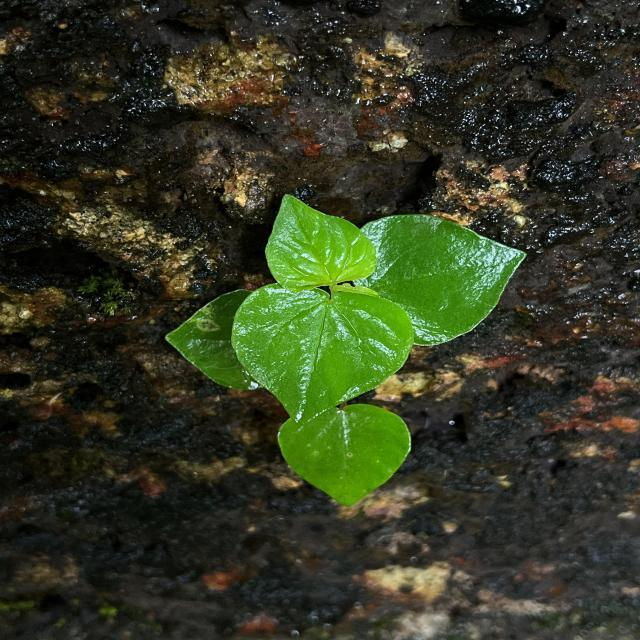Peperomia pellucida: (228, 281, 416, 427), (347, 212, 529, 347), (263, 192, 378, 296)
